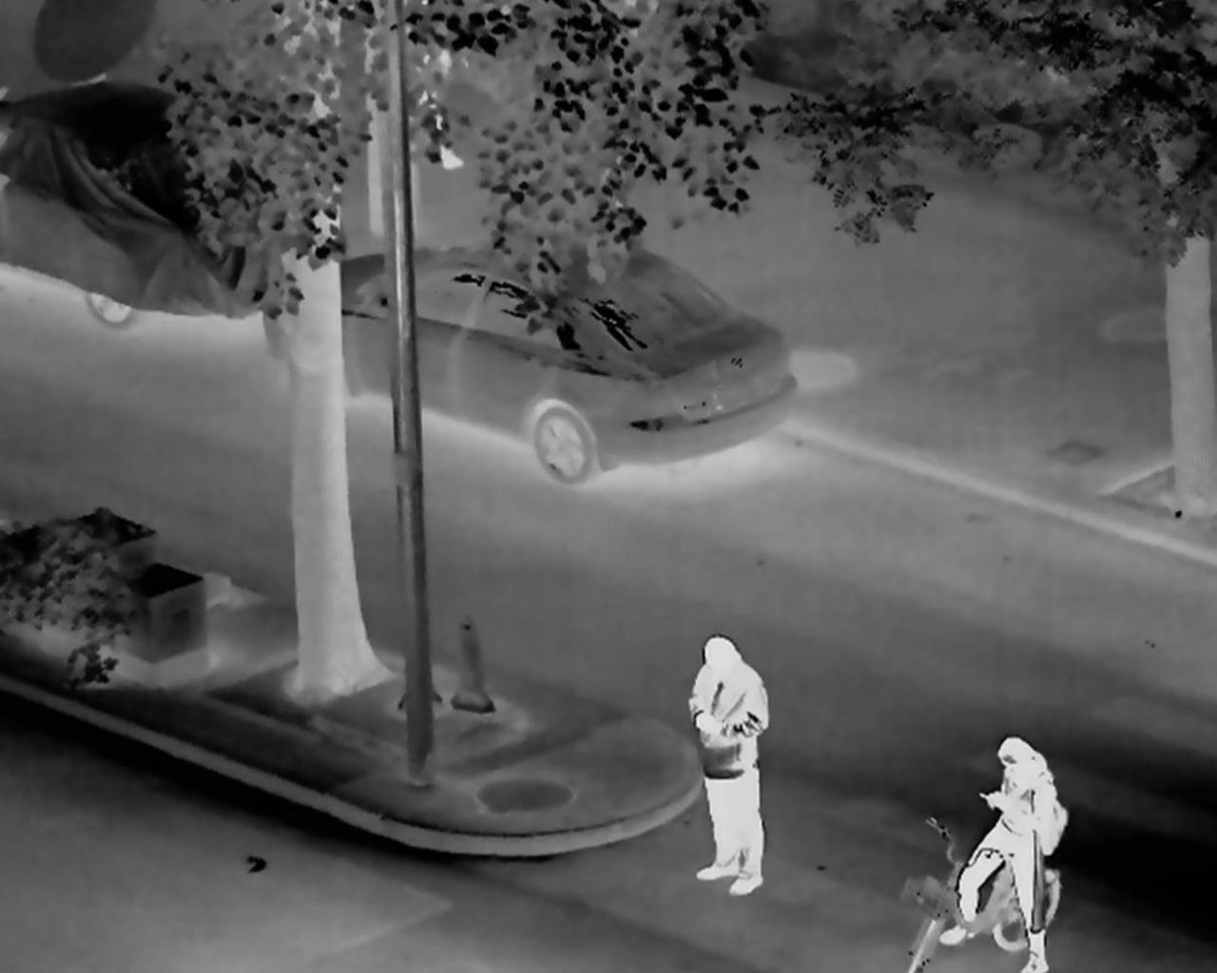person: (941, 737, 1061, 971), (690, 634, 772, 899)
